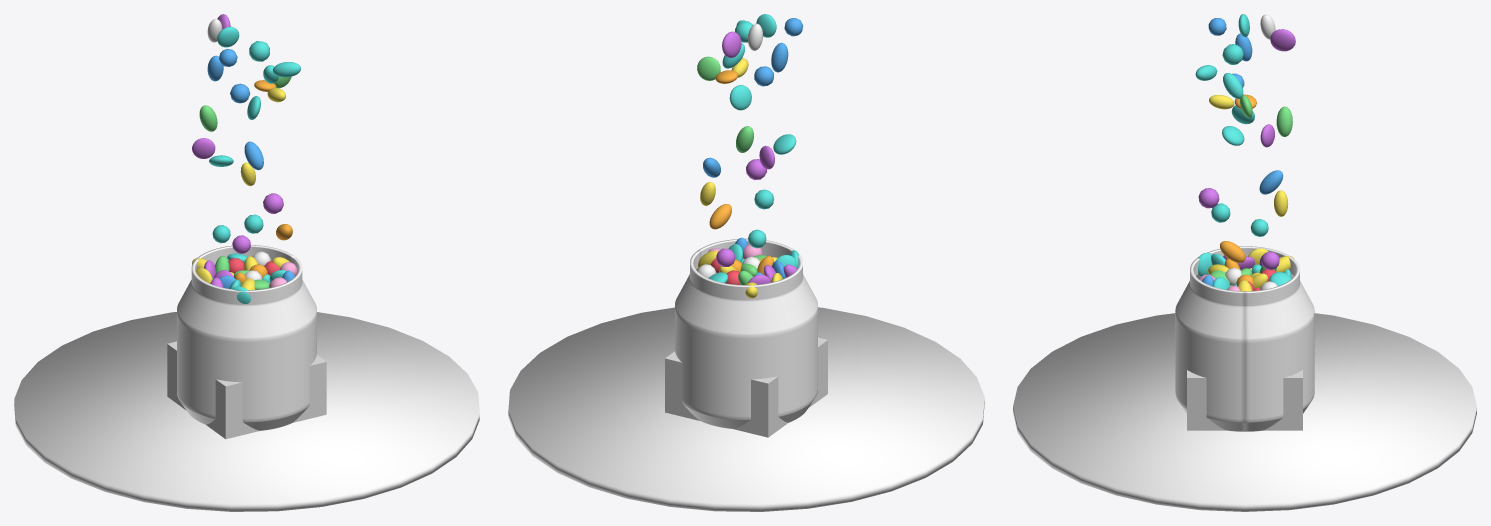
The model's file is CANDY5.GLB.
3 renders of one model, left to right at view 1: azimuth 30°, elevation 25°; view 2: azimuth 150°, elevation 25°; view 3: azimuth 270°, elevation 25°, orthographic. The views are drawn at different scales.
Parts seen in each view (by area): view 1: Table, Jar, Cube; view 2: Table, Jar, Cube; view 3: Table, Jar, Cube.
Part boxes in pixels (x1,y1,x2,y2): Table: (14,312,479,511); Jar: (177,245,316,430); Cube: (167,341,326,439); Table: (508,307,984,511); Jar: (675,238,817,428); Cube: (665,337,827,437); Table: (1013,313,1476,511); Jar: (1175,246,1314,431); Cube: (1187,370,1302,430).
Size of what is drawn, in the model's own units: 8 by 8.27 by 8.
